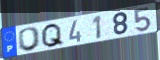1: (90, 14, 103, 41)
4: (68, 19, 83, 43)
5: (133, 5, 153, 33)
8: (112, 12, 130, 36)
O: (17, 26, 42, 53)
Q: (41, 22, 66, 49)
